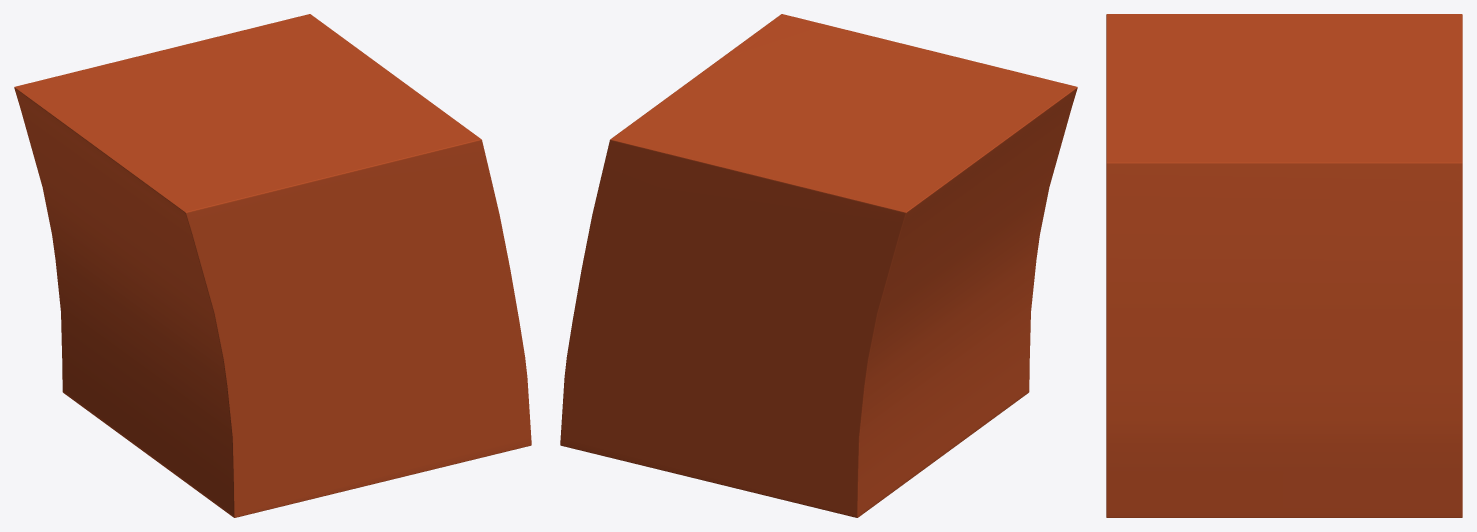
Rendered from Mesh_EDH_Building9.fbx.
3 renders of one model, left to right at view 1: azimuth 30°, elevation 25°; view 2: azimuth 150°, elevation 25°; view 3: azimuth 270°, elevation 25°, orthographic. The views are drawn at different scales.
Parts seen in each view (by area): view 1: polySurface162; view 2: polySurface162; view 3: polySurface162.
Part boxes in pixels (x1,y1,x2,y2): polySurface162: (14,14,531,517); polySurface162: (560,14,1077,517); polySurface162: (1106,14,1462,517).
Bounding box in the file's own units: 186 × 164 × 160.
